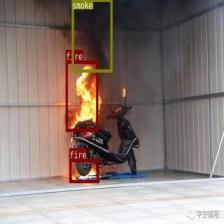fire: (65, 60, 98, 131), (69, 158, 99, 182)
smoke: (70, 0, 112, 71)
